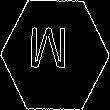M_S: (35, 29, 75, 81)
